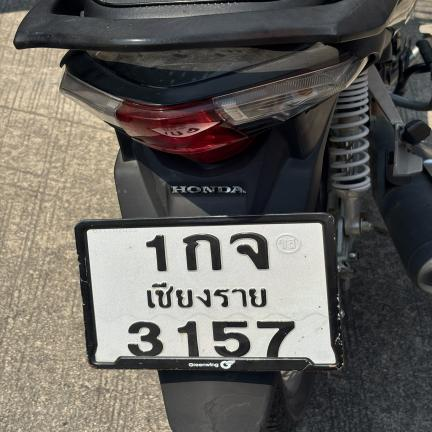1: (172, 319, 202, 358), (140, 233, 170, 272)
3: (122, 318, 165, 357)
5: (210, 319, 253, 357)
7: (257, 319, 296, 358)
A01: (180, 232, 226, 273)
A08: (229, 232, 274, 271)
CRI: (142, 277, 271, 311)
